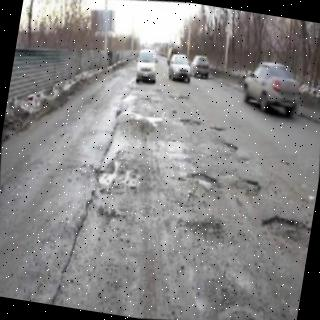pothole: (262, 216, 311, 233), (233, 177, 262, 198), (187, 173, 218, 190)
